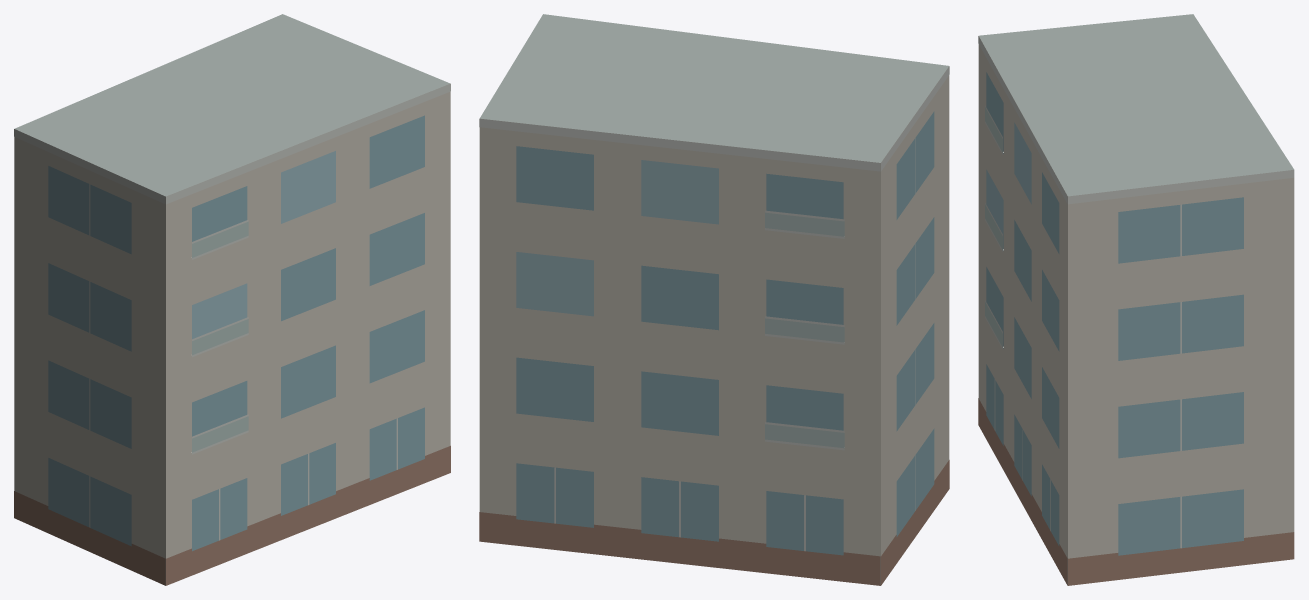
The model's file is survey-upis-32948953.glb.
The picture shows the model from 3 angles, left to right: view 1: azimuth 30°, elevation 25°; view 2: azimuth 150°, elevation 25°; view 3: azimuth 270°, elevation 25°; orthographic projection. The views are drawn at different scales.
Visible parts, largest first — view 1: survey-upis-32948953.tmp; view 2: survey-upis-32948953.tmp; view 3: survey-upis-32948953.tmp.
Part boxes in pixels (bbox=[...]): survey-upis-32948953.tmp: bbox=[14, 14, 450, 585]; survey-upis-32948953.tmp: bbox=[479, 14, 949, 585]; survey-upis-32948953.tmp: bbox=[978, 14, 1294, 585].
Size of the model in its own units: 12.03 by 11.96 by 8.8.
